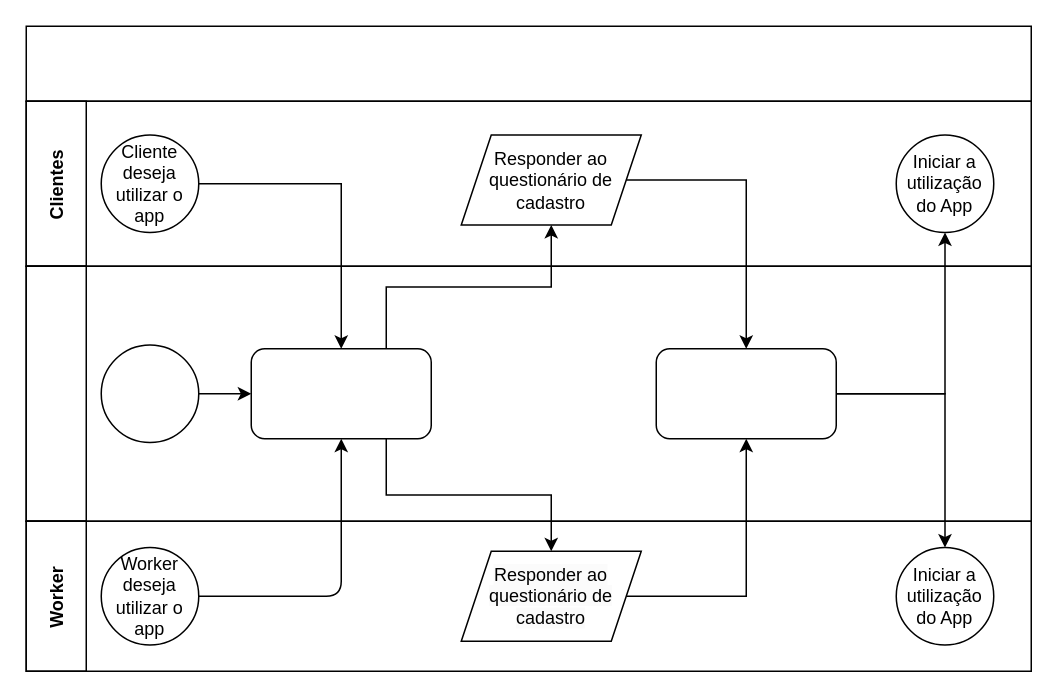
This 1058x698 diagram has some shape labels left out. Here are the shapes that lost their labels. From the top down, the centre of each, then its label:
At (528,63): "Processo de Cadastro WorkAround".
At (55,393): "Wrokaround".
At (340,393): "Enviar a tela de cadastro aos usuários".
At (745,393): "Receber as informações e cadastrar o usuário no sistema".
